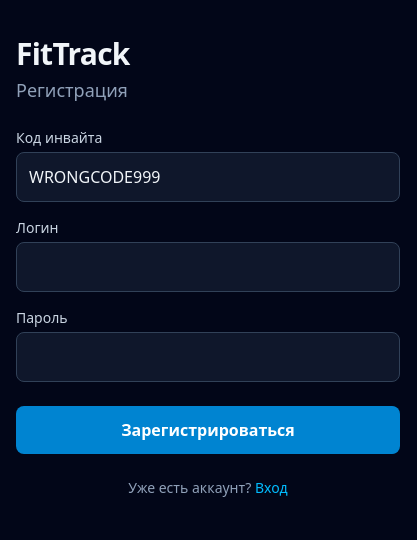
RegisterPage › показывает ошибку неверного инвайта
Type "newuser" into the field labelled "Логин" at (208, 267), box [16,242,400,292]
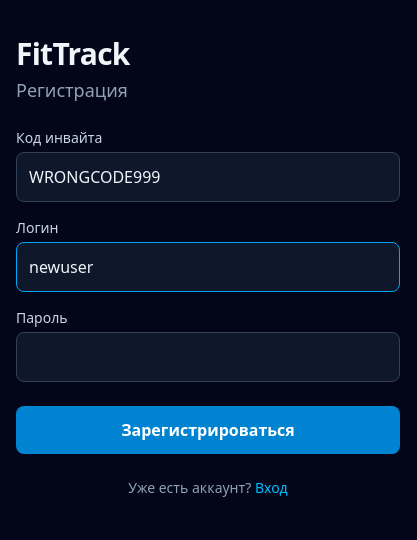
Type "надёжный-пароль" into the password field labelled "Пароль" at (208, 357), box [16,332,400,382]
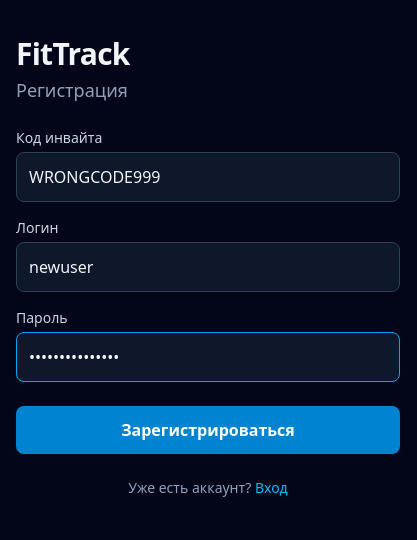
Click the button "Зарегистрироваться" at (208, 430), box [16,406,400,454]
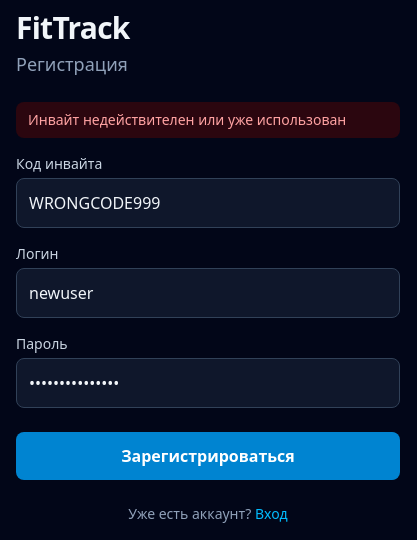
Result: the text "Инвайт недействителен или уже использован" is shown at [16,102,400,138]
